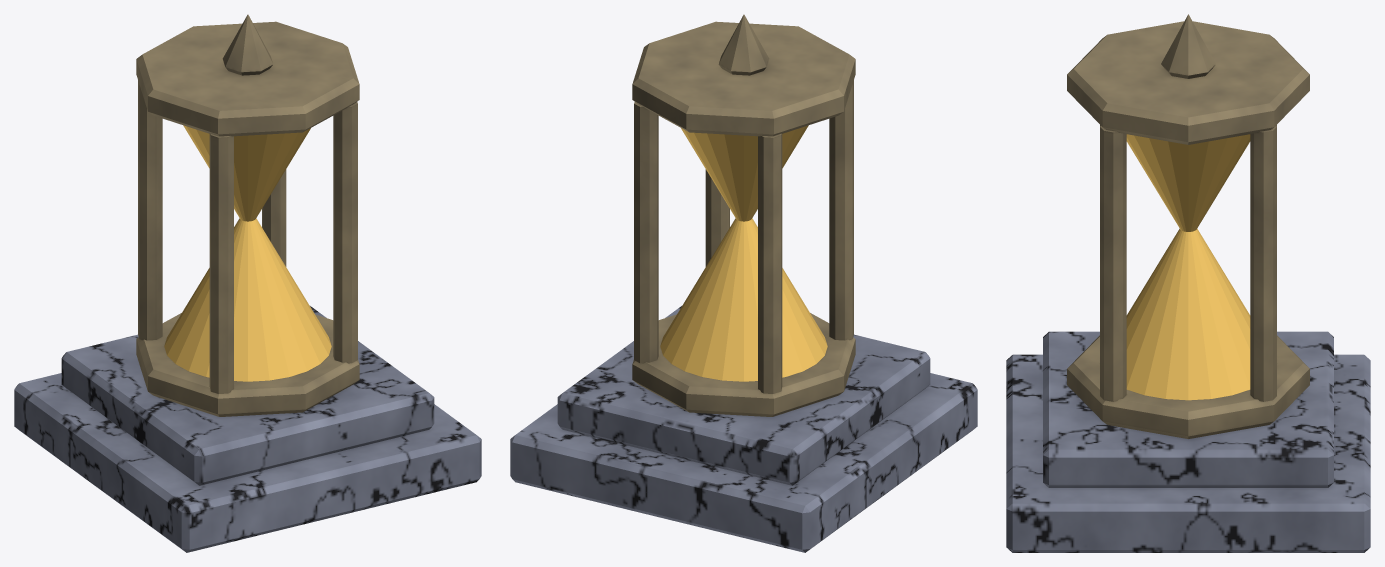
File: BG_Hourglass.obj
3 views of the same model, side by side, from view 1: azimuth 30°, elevation 25°; view 2: azimuth 150°, elevation 25°; view 3: azimuth 270°, elevation 25° (orthographic). The views are drawn at different scales.
Visible parts, largest first — view 1: BG_Hourglass; view 2: BG_Hourglass; view 3: BG_Hourglass.
Part boxes in pixels (x1,y1,x2,y2): BG_Hourglass: (14,14,481,552); BG_Hourglass: (510,14,977,552); BG_Hourglass: (1006,14,1370,552).
Bounding box in the file's own units: 0.7101 × 1 × 0.7101.
Materials: 1 (1 with a texture image).
